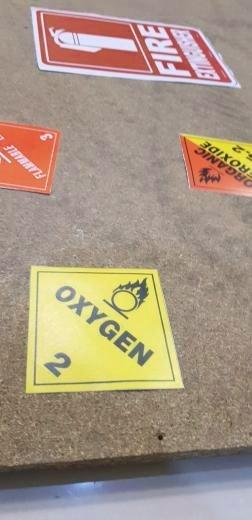flammable: (1, 120, 66, 198)
organic-peroxide: (181, 133, 252, 196)
oxidizer: (28, 265, 187, 394)
